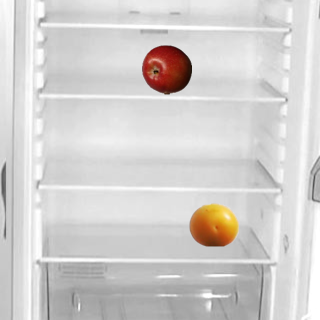Apple Braeburn: (141, 44, 191, 94)
Cherry Wax Yellow: (188, 199, 238, 249)
